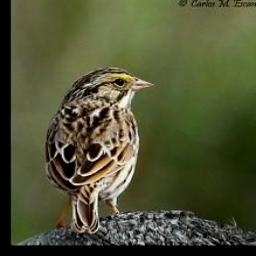Sparrow: (44, 66, 158, 234)
